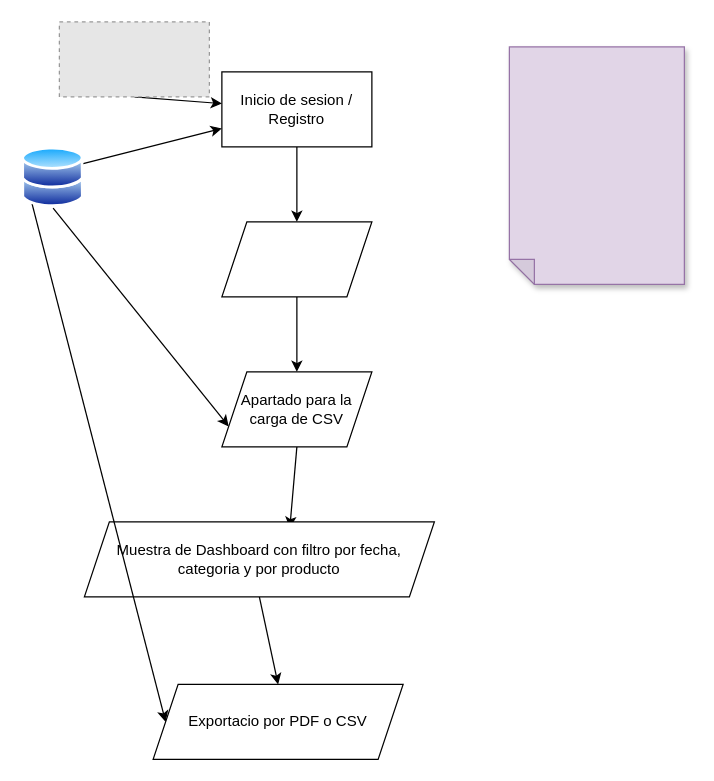
This 714x781 diagram has some shape labels left out. Grey dashed boxes stand in for pictures. The centre of each missing label's shape, as x and y in pixels:
"Herramientas de desarrollo: Flask CSS HTML JS Plotly ReportLab CSV hashing" goes at (597,167).
"Pagina Inicio" goes at (296,259).
